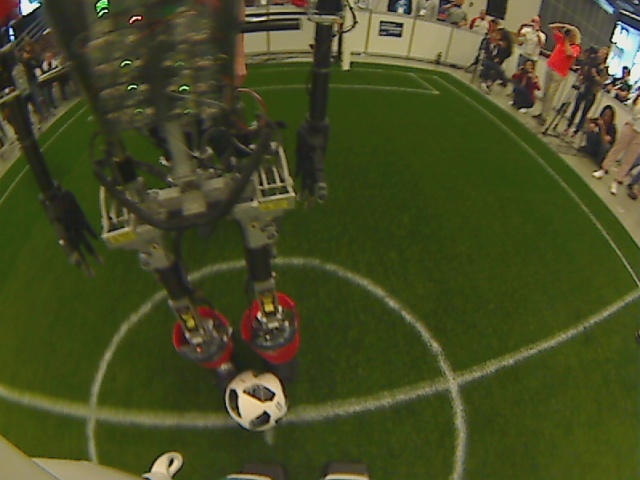ball: (221, 366, 293, 435)
